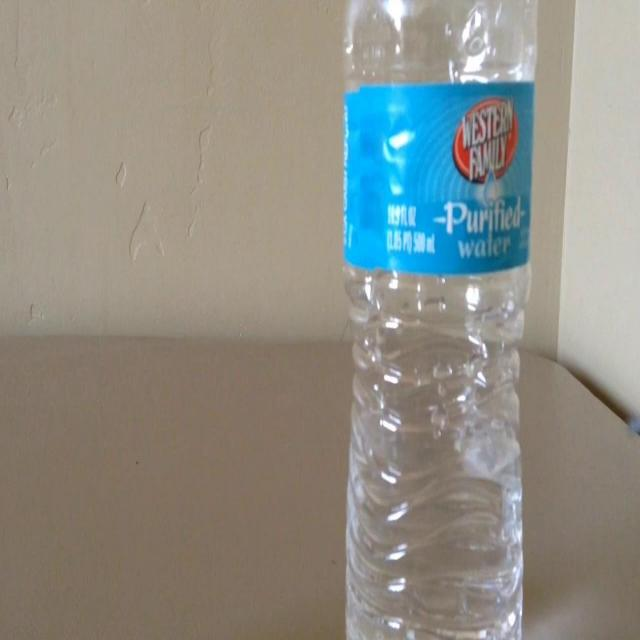bottle: (311, 0, 546, 610)
